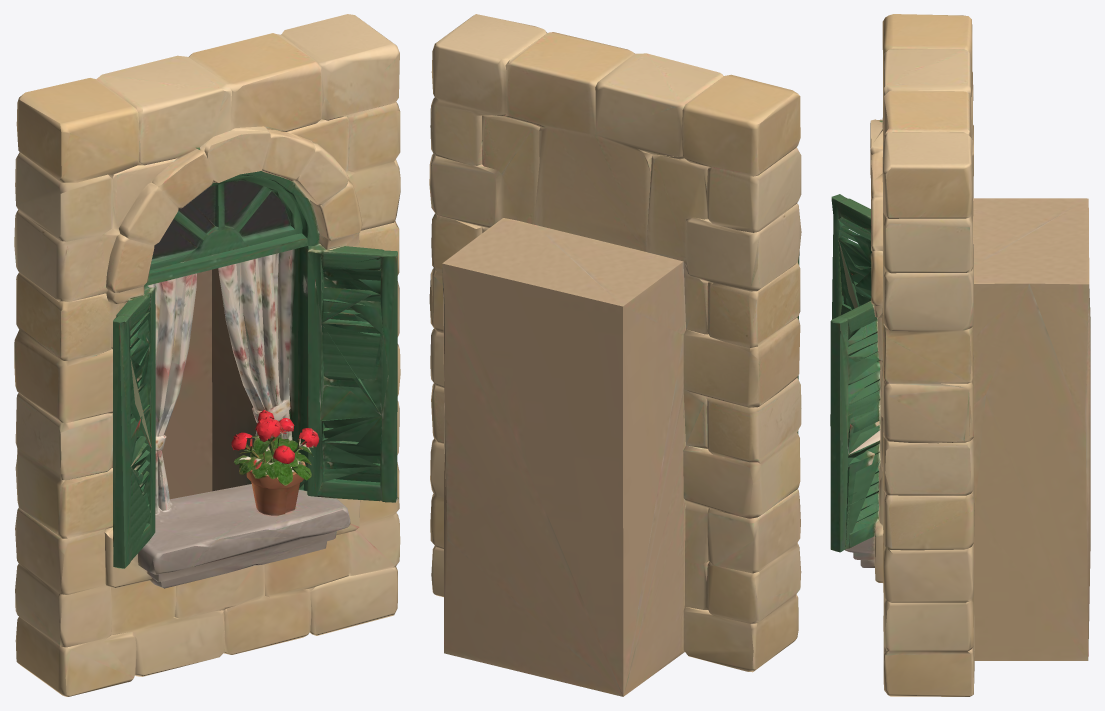
The model's file is archWindow.glb.
3 renders of one model, left to right at view 1: azimuth 30°, elevation 25°; view 2: azimuth 150°, elevation 25°; view 3: azimuth 270°, elevation 25°, orthographic. The views are drawn at different scales.
Bounding box in the file's own units: 1.19 × 1.9 × 0.84.
Materials: 1 (1 with a texture image).
